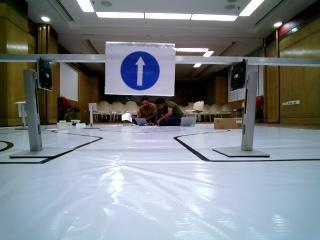straight: (107, 41, 174, 96)
